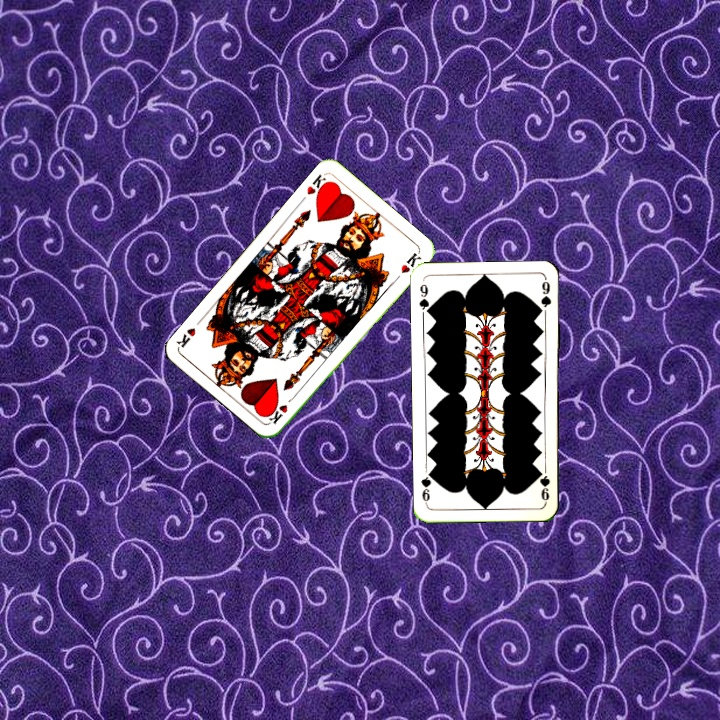G9: (415, 280, 433, 318), (537, 464, 552, 505)
HK: (265, 392, 297, 427), (302, 170, 333, 200)
